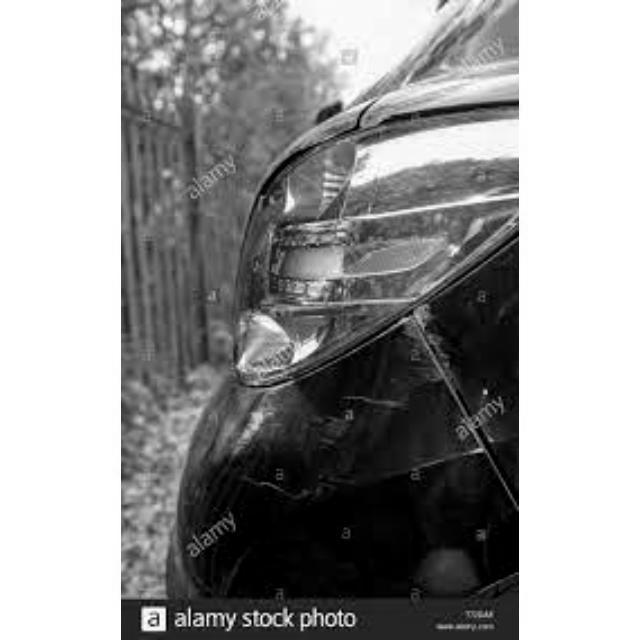Taillight-Damage: (198, 98, 518, 399)
rear-bumper-dent: (144, 298, 518, 597)
